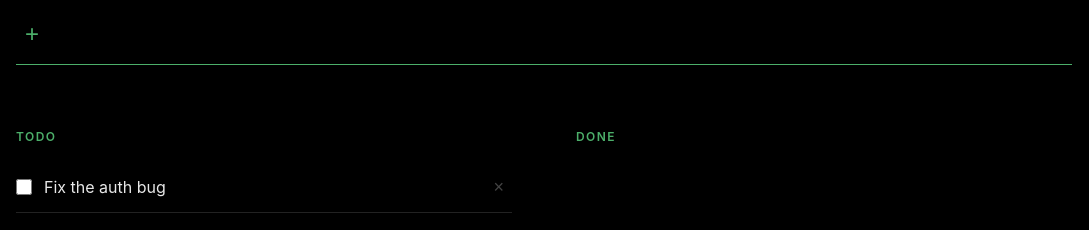
Test: the empty board › returns to that same board when the last todo is deleted
Expected: the list named "TODO" is shown, [16,162,512,213]
Click the button named "Delete" at {"x": 499, "y": 187}, box [486,174,512,200]
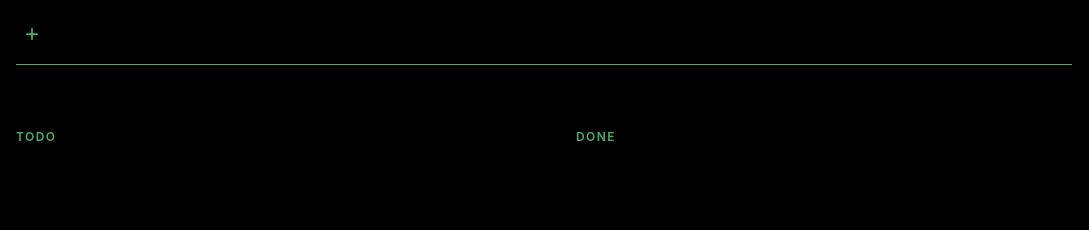
Expected: the heading "TODO" is shown, [16,129,56,144]
Expected: no list items are shown
